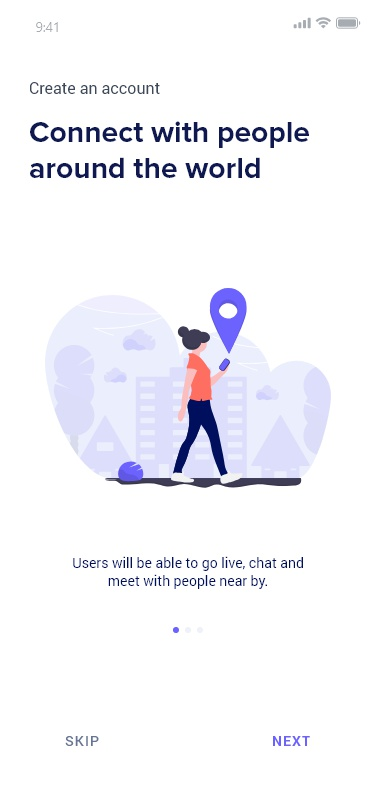Image: (45, 288, 332, 489)
PageIndicator: (172, 626, 206, 635)
Text: (30, 122, 310, 180), (73, 556, 304, 590), (30, 82, 161, 96), (273, 735, 311, 747), (66, 735, 100, 747)
UpperTaskBar: (36, 17, 361, 34)
